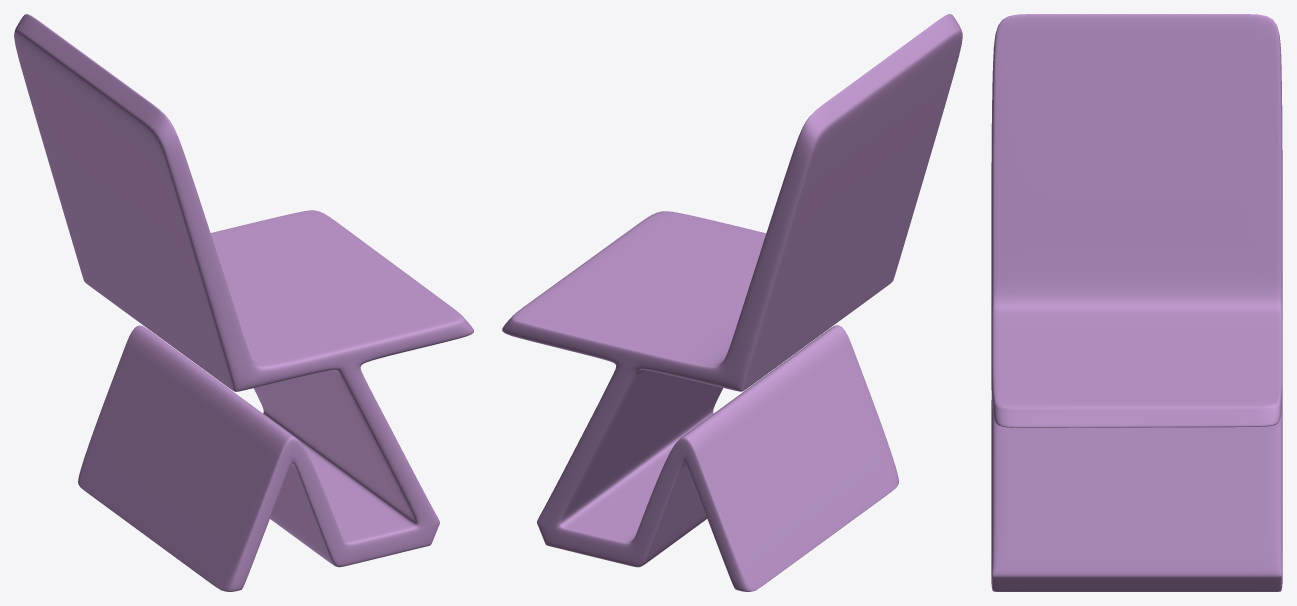
File: chair4.glb
3 views of the same model, side by side, from view 1: azimuth 30°, elevation 25°; view 2: azimuth 150°, elevation 25°; view 3: azimuth 270°, elevation 25° (orthographic). The views are drawn at different scales.
Parts seen in each view (by area): view 1: Plane; view 2: Plane; view 3: Plane.
Part boxes in pixels (x1,y1,x2,y2): Plane: (14,14,473,591); Plane: (502,14,962,591); Plane: (991,14,1282,591).
Bounding box in the file's own units: 2.37 × 3.48 × 2.
